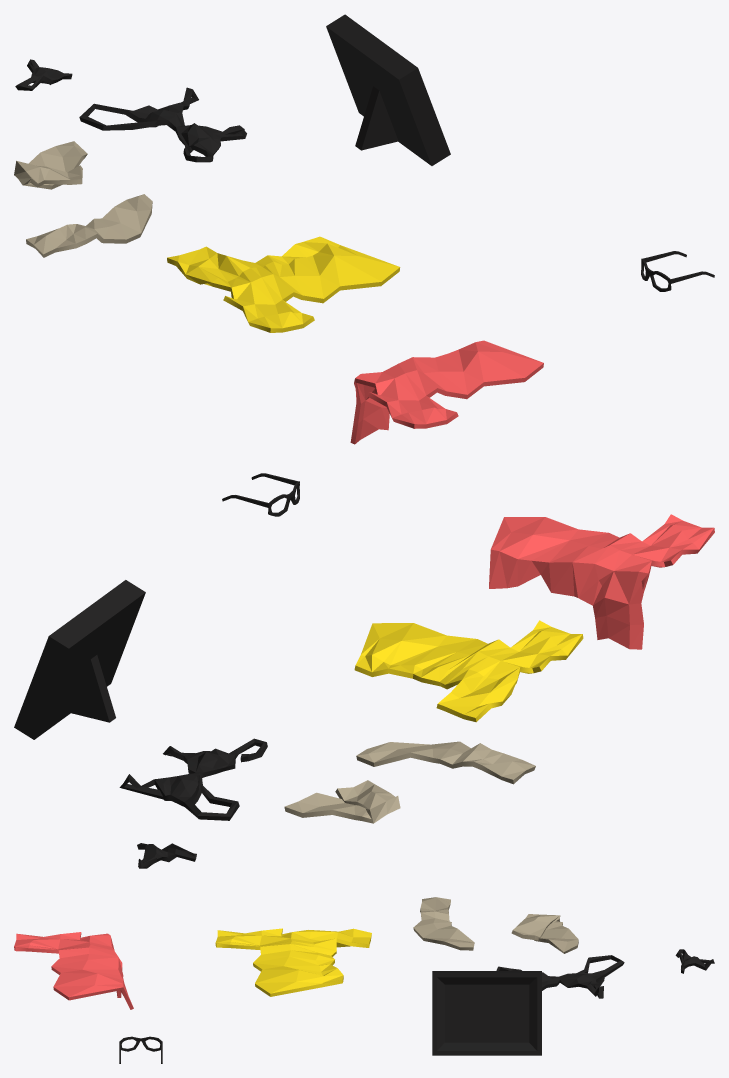
The model's file is misc_items.FBX.
3 views of the same model, one above another, from view 1: azimuth 30°, elevation 25°; view 2: azimuth 150°, elevation 25°; view 3: azimuth 270°, elevation 25° (orthographic). The views are drawn at different scales.
Parts seen in each view (by area): view 1: t-shirt (×2), photo, top_secret, sock1, sock2, glasses; view 2: t-shirt (×2), photo, top_secret, sock1, sock2, glasses; view 3: t-shirt (×2), photo, top_secret, sock1, sock2, glasses.
Part boxes in pixels (x1=…): t-shirt (×2): x1=167, y1=236, x2=543, y2=444; photo: x1=326, y1=14, x2=450, y2=165; top_secret: x1=15, y1=59, x2=246, y2=162; sock1: x1=26, y1=194, x2=152, y2=257; sock2: x1=14, y1=141, x2=87, y2=189; glasses: x1=641, y1=251, x2=714, y2=291; t-shirt (×2): x1=354, y1=514, x2=714, y2=722; photo: x1=14, y1=580, x2=145, y2=739; top_secret: x1=119, y1=738, x2=267, y2=868; sock1: x1=356, y1=741, x2=535, y2=784; sock2: x1=284, y1=780, x2=400, y2=823; glasses: x1=222, y1=473, x2=299, y2=516; t-shirt (×2): x1=14, y1=928, x2=371, y2=1009; photo: x1=432, y1=971, x2=541, y2=1055; top_secret: x1=496, y1=949, x2=714, y2=998; sock1: x1=413, y1=897, x2=474, y2=950; sock2: x1=511, y1=914, x2=578, y2=953; glasses: x1=119, y1=1036, x2=162, y2=1063.
Size of the model in its own units: 16.02 by 27.55 by 5.
